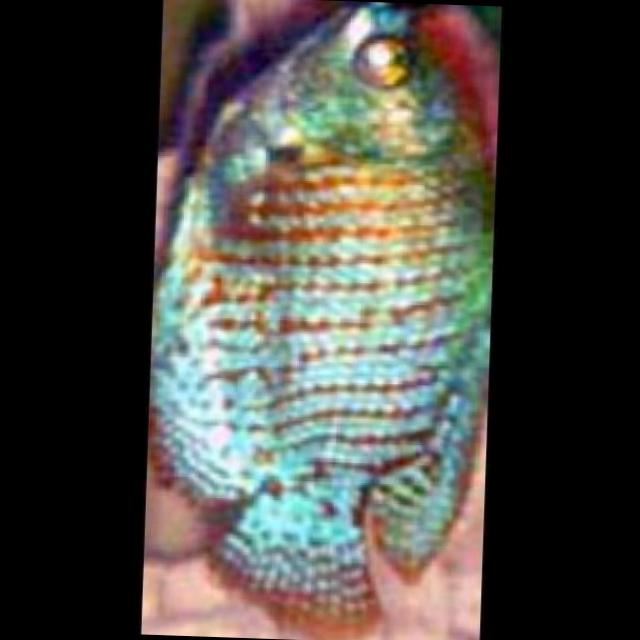Gourami: (140, 0, 504, 640)
